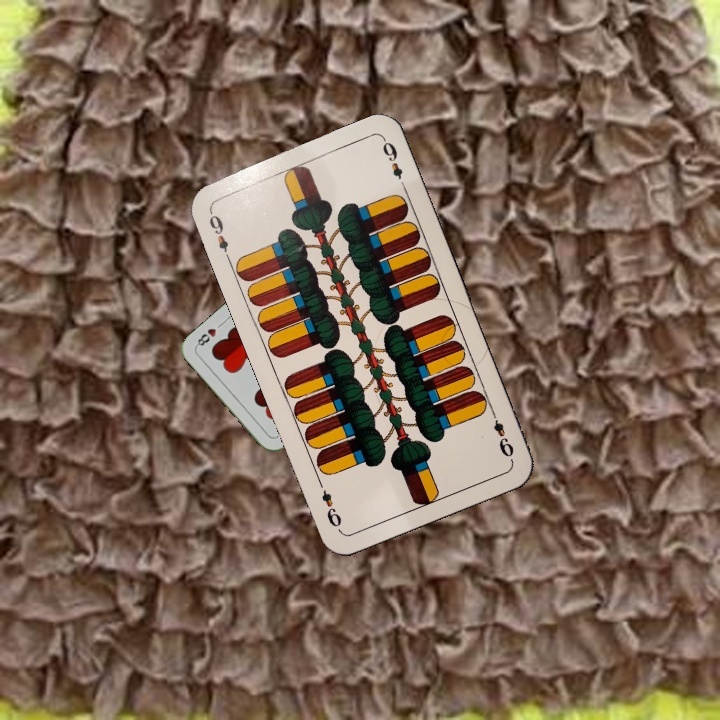E9: (487, 406, 517, 460), (205, 206, 233, 263)
